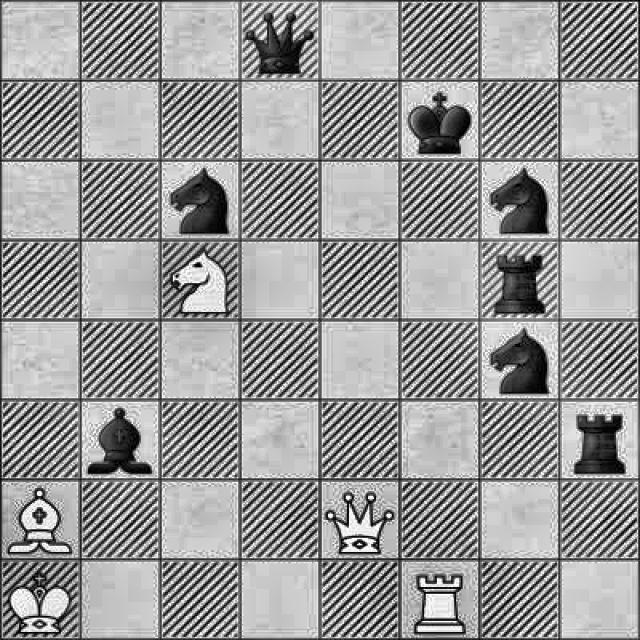Black Knight: (160, 162, 237, 238), (484, 321, 554, 399), (483, 164, 555, 238)
black bishop: (88, 400, 156, 476)
black king: (403, 83, 473, 157)
black queen: (243, 2, 319, 79)
black rook: (479, 242, 558, 318), (570, 400, 630, 476)
white bishop: (0, 481, 76, 557)
white king: (3, 565, 74, 633)
white queen: (321, 480, 396, 557)
white rook: (406, 568, 471, 638)
whiteknight: (161, 245, 239, 319)
